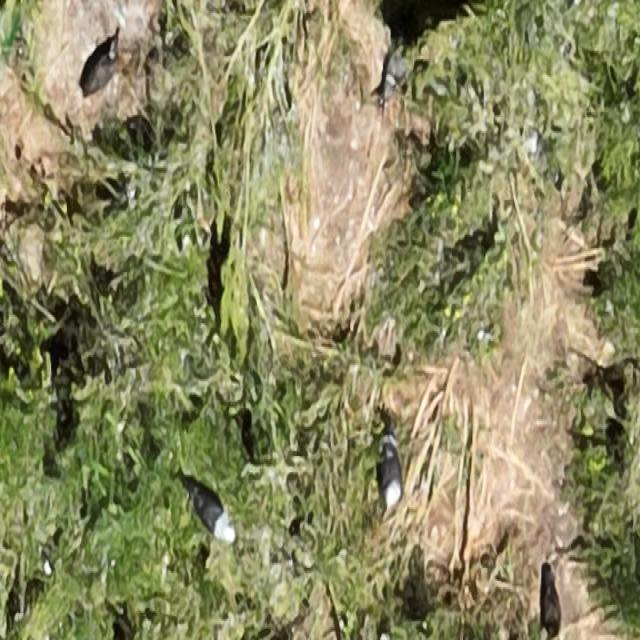umineko: (198, 496, 235, 540), (381, 449, 402, 506)
